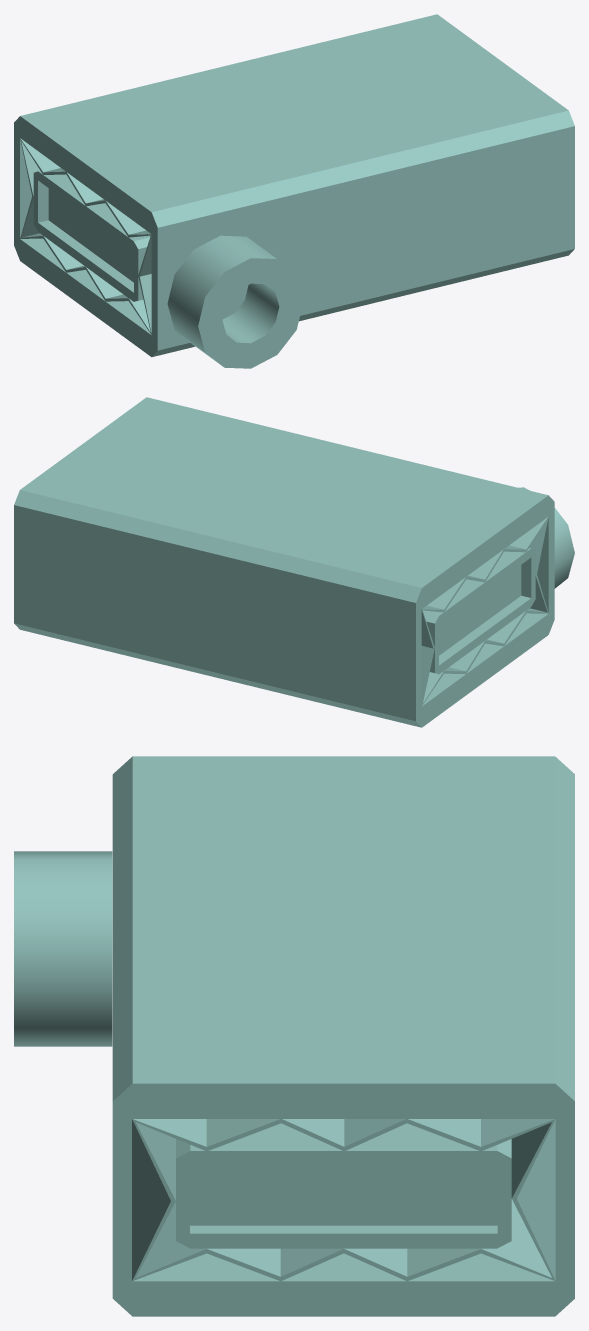
Rendered from TankBody_Support_Group.FBX.
The picture shows the model from 3 angles, top to bottom: view 1: azimuth 30°, elevation 25°; view 2: azimuth 150°, elevation 25°; view 3: azimuth 270°, elevation 25°; orthographic projection. The views are drawn at different scales.
Parts seen in each view (by area): view 1: TankBody_Support, TankWheel_Support; view 2: TankBody_Support, TankWheel_Support; view 3: TankBody_Support, TankWheel_Support.
Boxes of the visible parts, x1,y1,x2,y2 form: TankBody_Support: (14,14,574,357); TankWheel_Support: (167,235,303,368); TankBody_Support: (14,397,554,727); TankWheel_Support: (518,487,574,588); TankBody_Support: (112,756,574,1316); TankWheel_Support: (14,851,112,1046).
Size of the model in its own units: 120 by 40 by 87.25.
